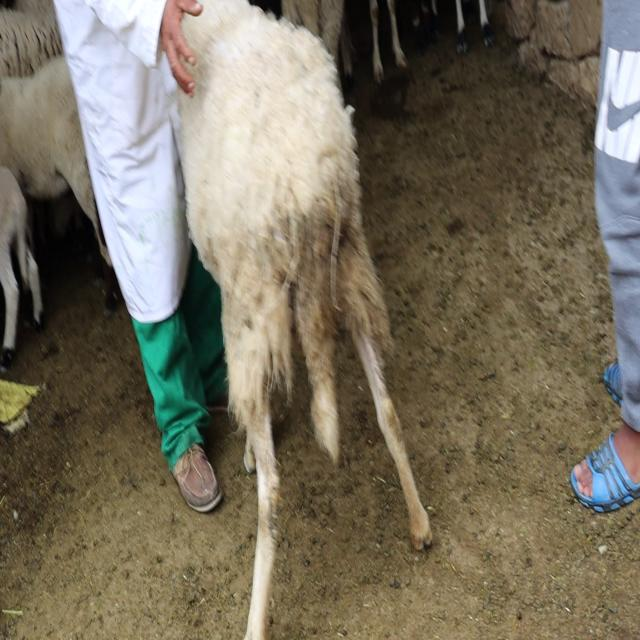Score_2: (177, 0, 432, 639)
